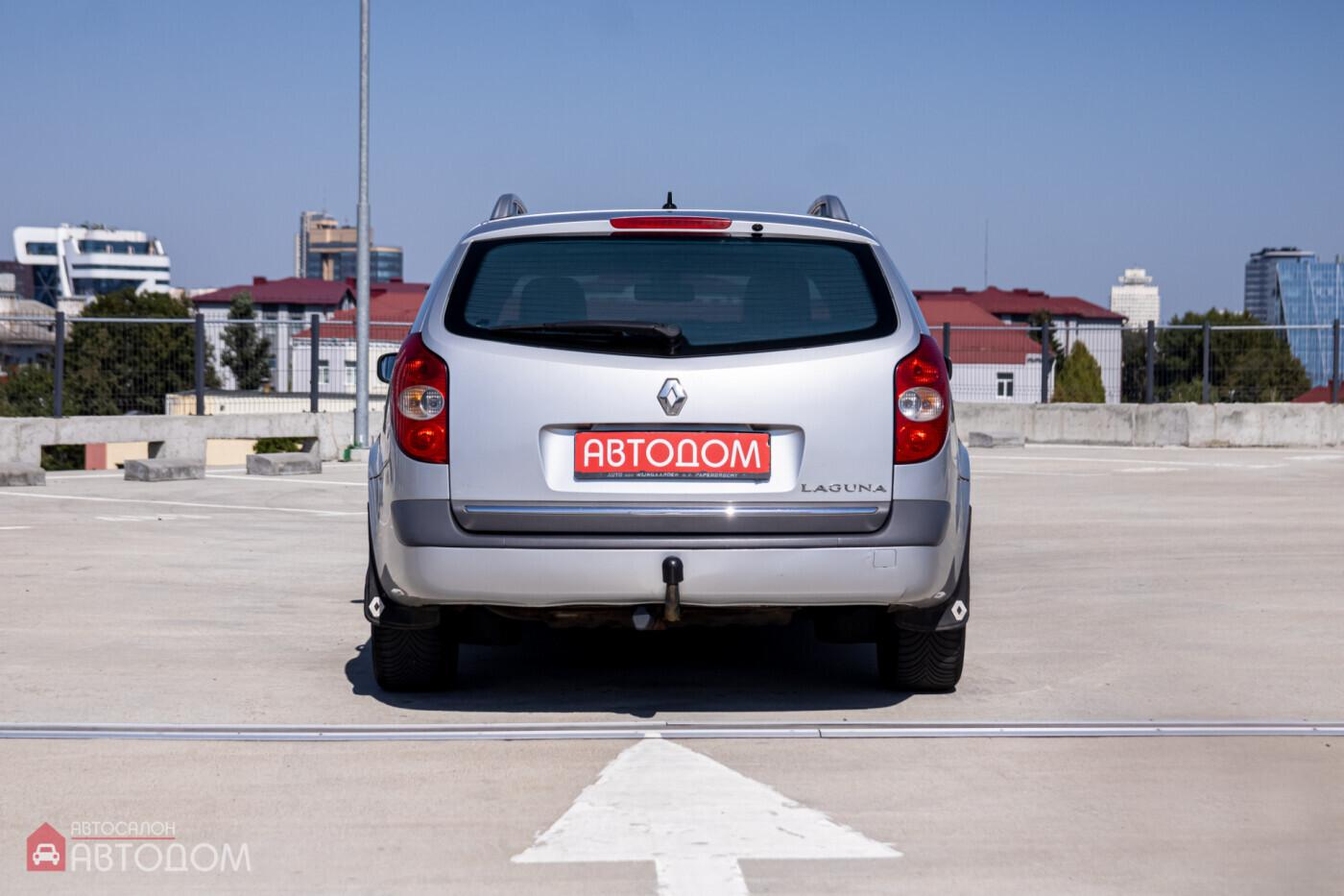Laguna_2005-2007: (362, 203, 979, 695)
